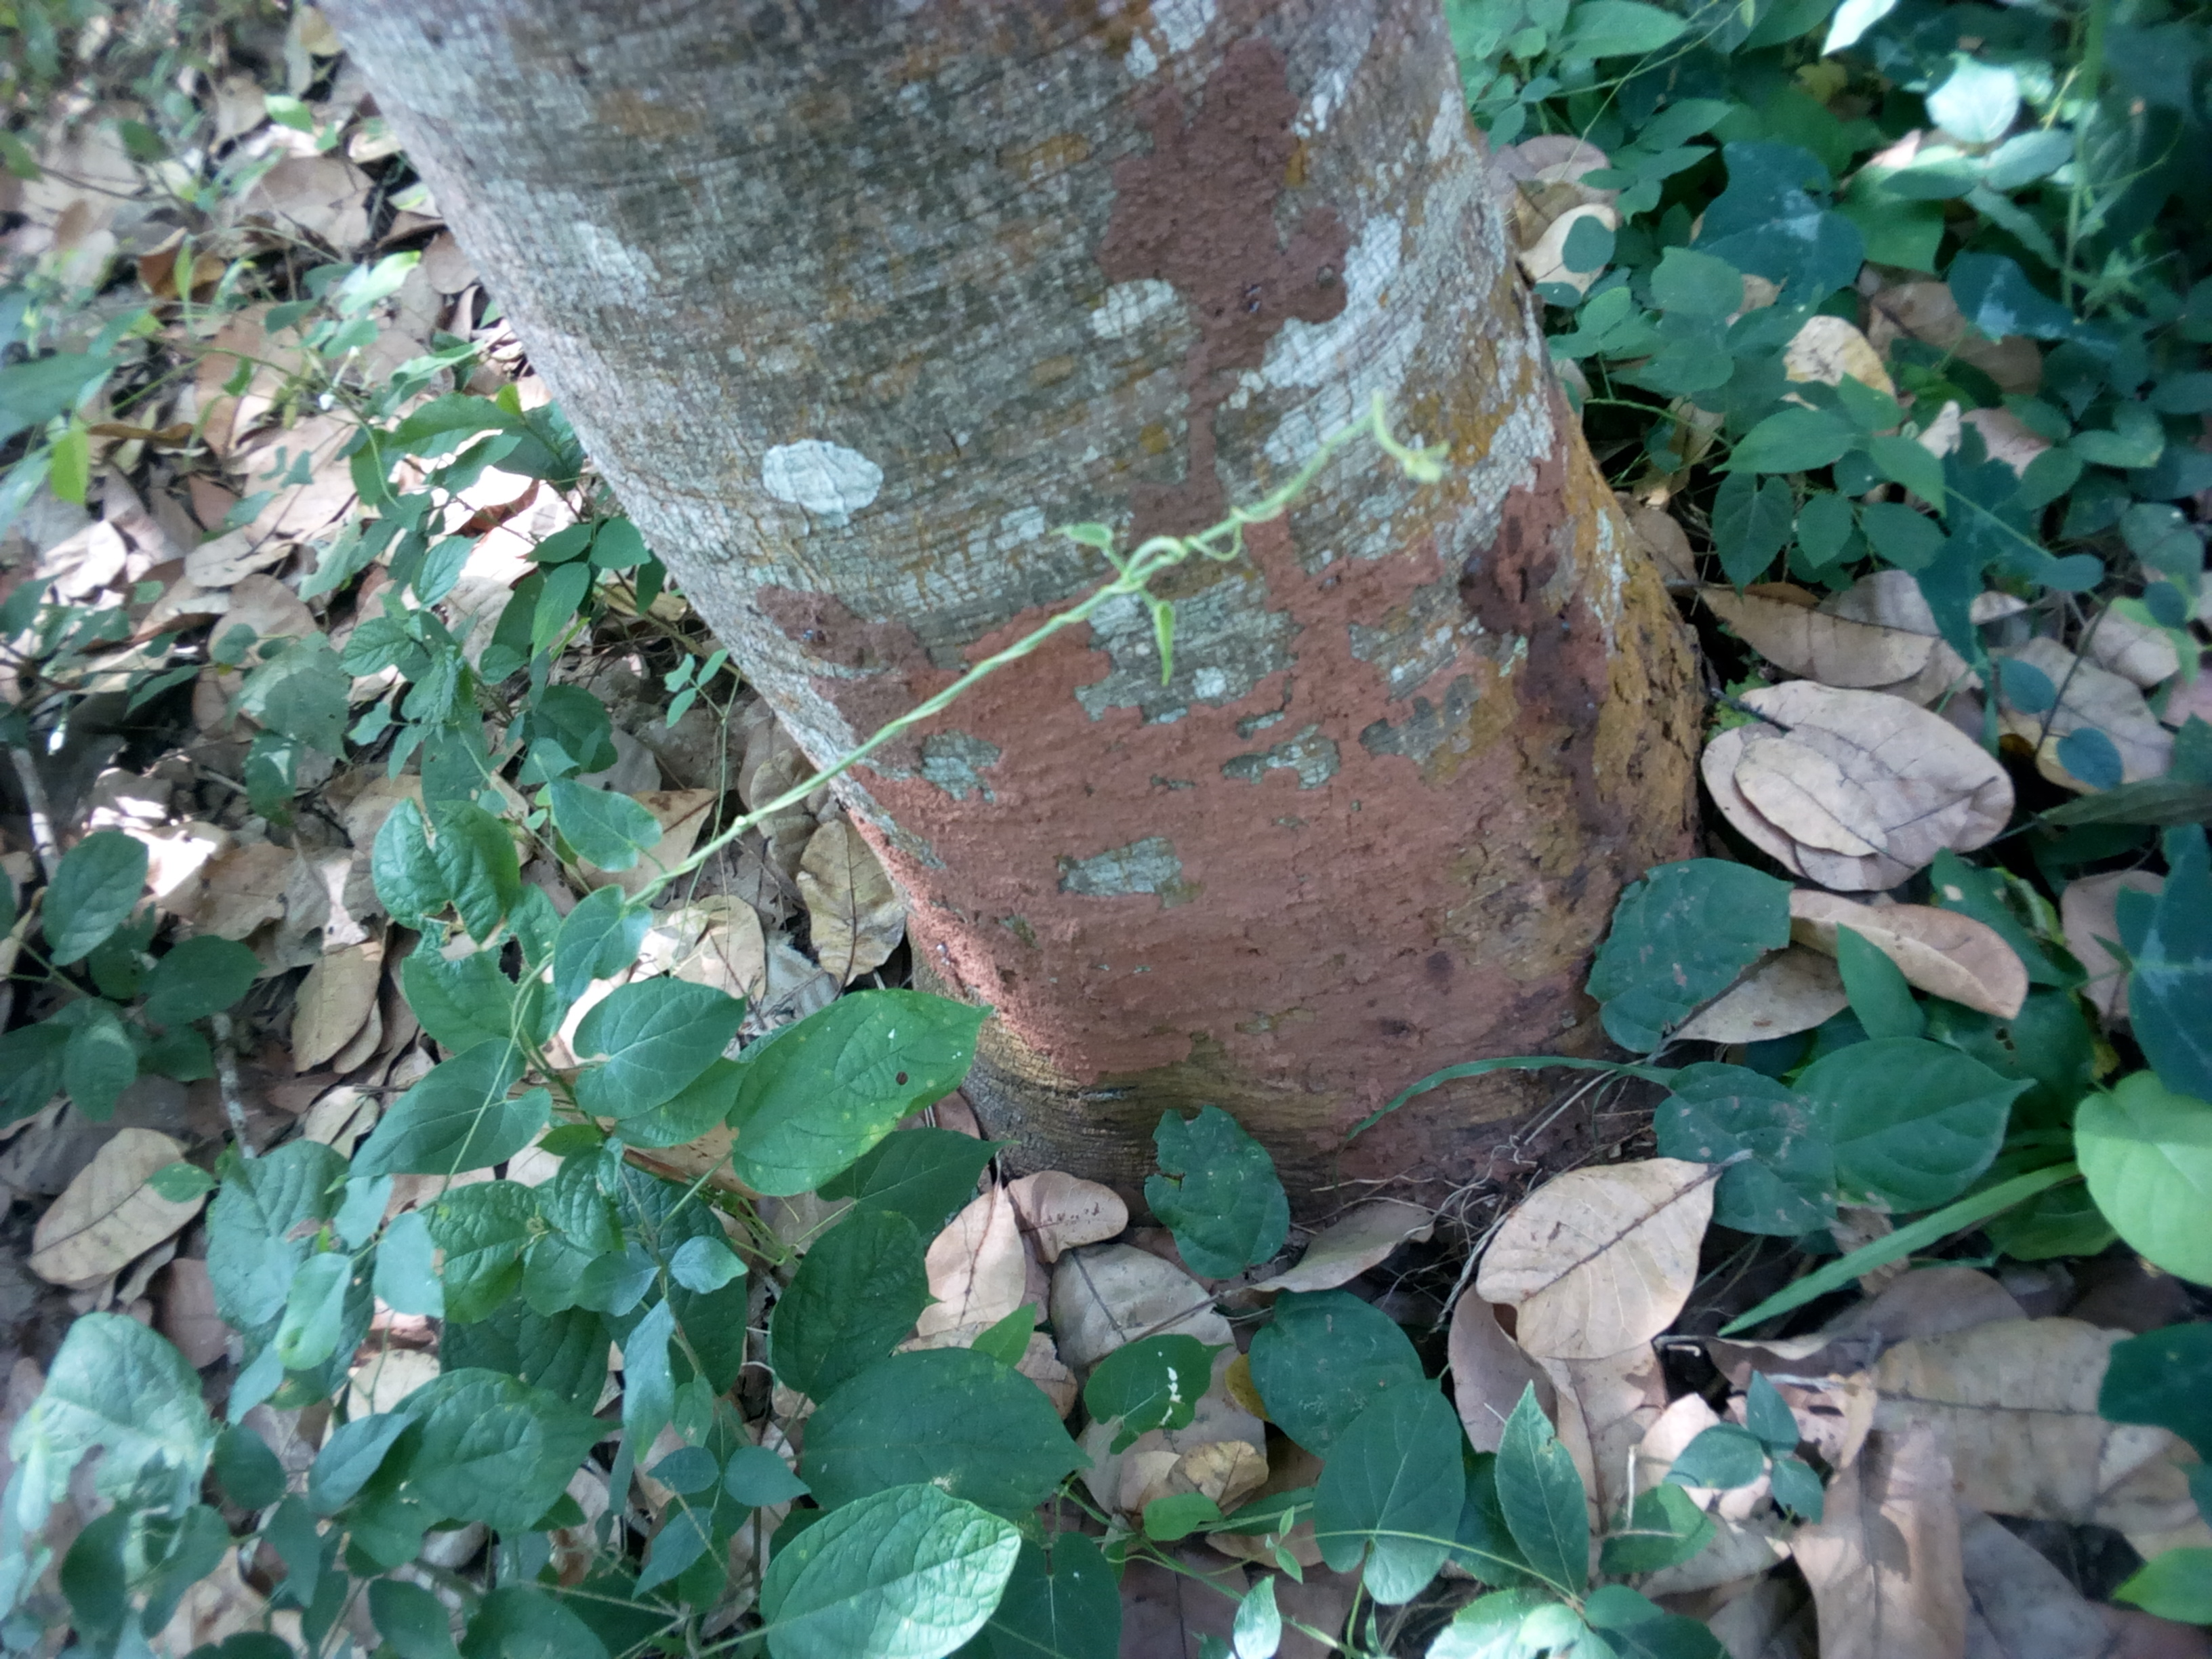Termites: (857, 589, 1688, 1058), (1096, 73, 1341, 498)
